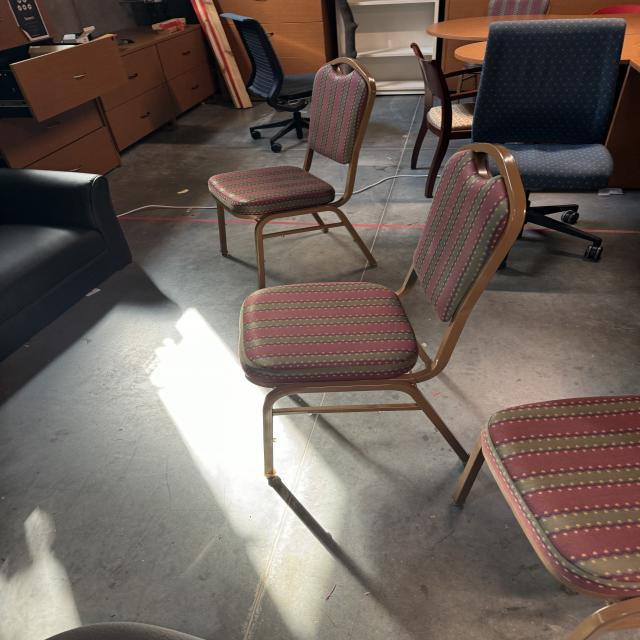chair: (235, 139, 519, 489), (203, 55, 388, 285)
